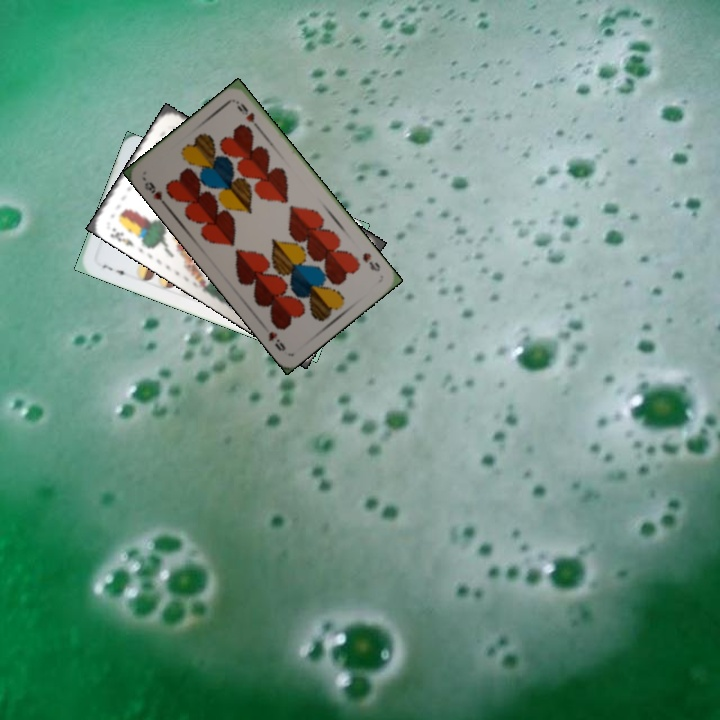E7: (98, 260, 130, 279)
EK: (106, 223, 137, 249)
H9: (139, 174, 170, 209), (358, 249, 383, 274)
